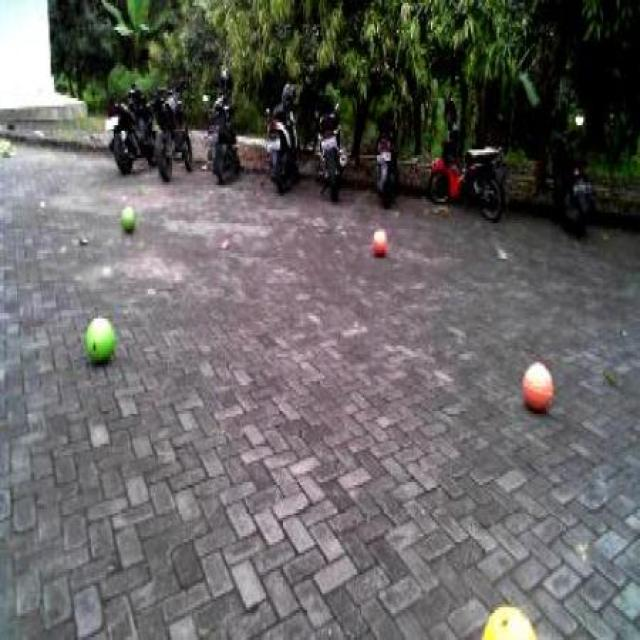buoy: (79, 300, 122, 378), (474, 596, 547, 636), (521, 350, 558, 421), (367, 219, 392, 263), (116, 199, 136, 229)
